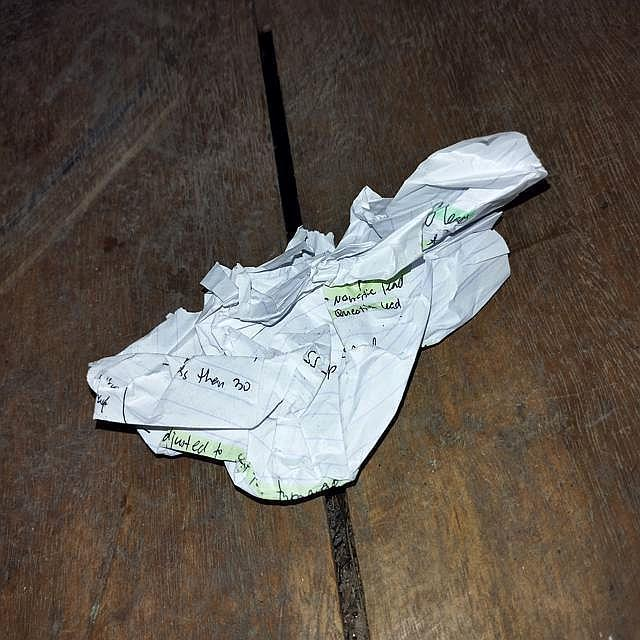Biodegradable: (87, 125, 549, 505)
